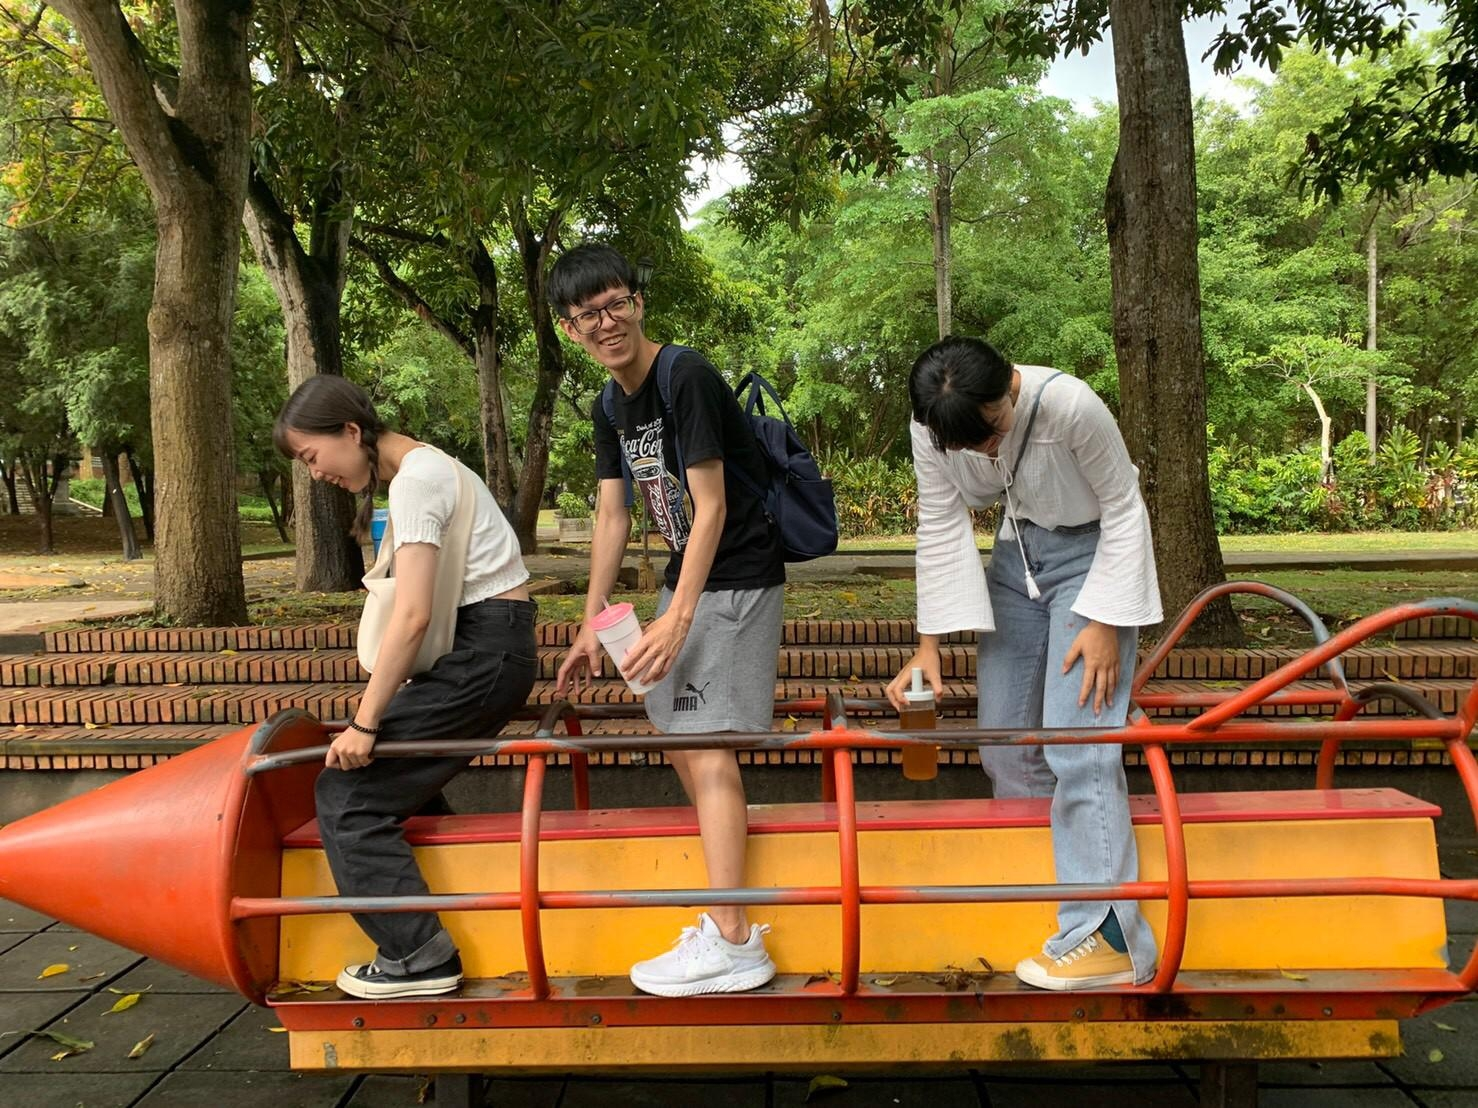people: (533, 244, 783, 992), (908, 330, 1154, 992), (277, 380, 494, 990)
